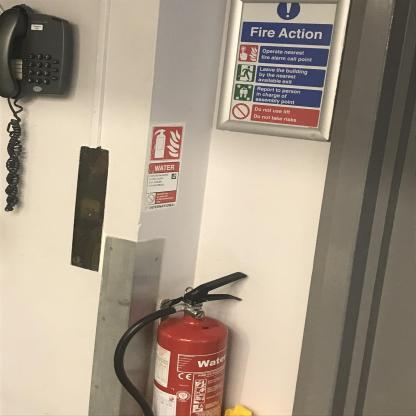Fire Extinguisher: (109, 248, 244, 414)
